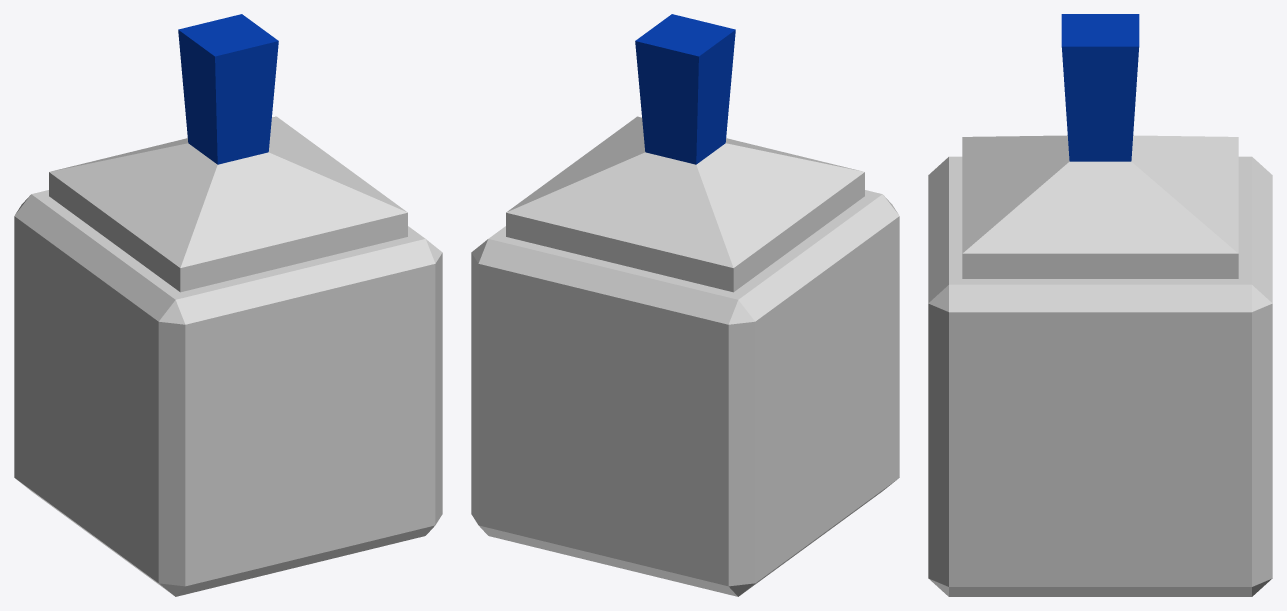
Rendered from skin_6_2_model.fbx.
The picture shows the model from 3 angles, left to right: view 1: azimuth 30°, elevation 25°; view 2: azimuth 150°, elevation 25°; view 3: azimuth 270°, elevation 25°; orthographic projection. The views are drawn at different scales.
Parts seen in each view (by area): view 1: Cube; view 2: Cube; view 3: Cube.
Boxes of the visible parts, x1,y1,x2,y2 form: Cube: [14, 14, 442, 596]; Cube: [471, 14, 899, 596]; Cube: [928, 14, 1272, 596].
Size of the model in its own units: 200 by 322 by 200.
